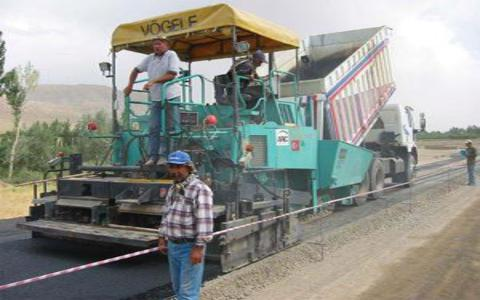Proper road: (2, 244, 131, 300)
